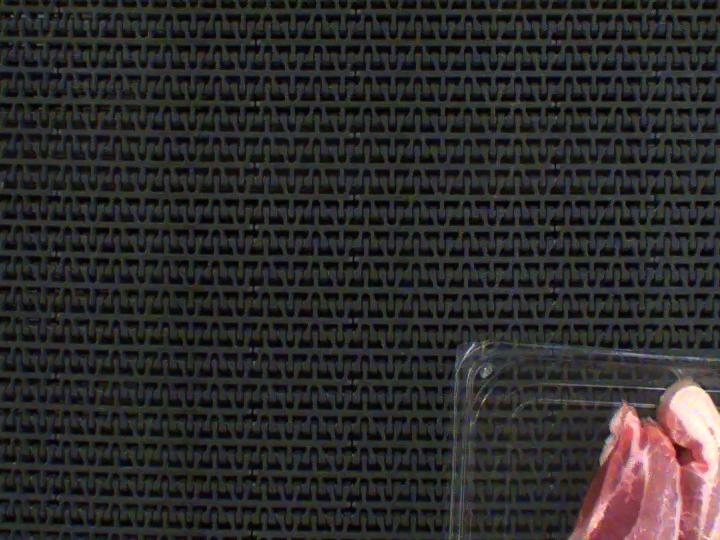packaging-error: (662, 359, 701, 386)
